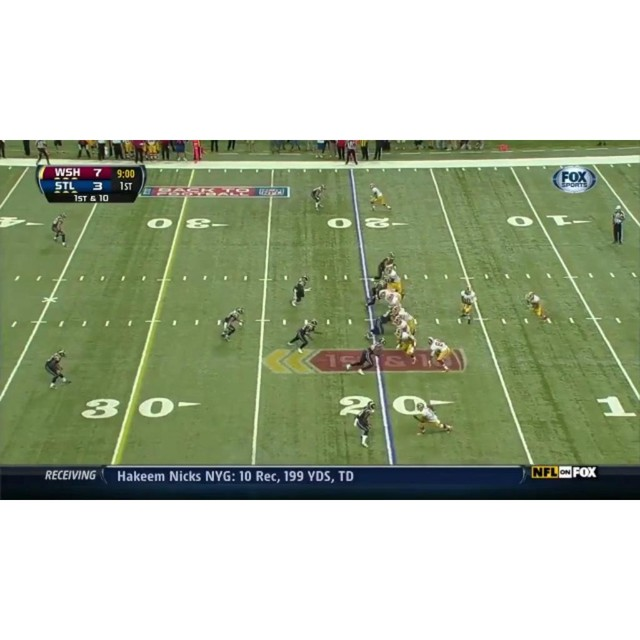american-football-player: (345, 338, 385, 375), (416, 403, 452, 435), (288, 318, 318, 354), (45, 349, 70, 389), (354, 401, 375, 448), (364, 310, 394, 342), (394, 324, 417, 365), (525, 291, 551, 325), (220, 306, 245, 341), (428, 337, 450, 372), (365, 276, 389, 308), (458, 287, 477, 324), (374, 253, 396, 284), (386, 265, 405, 299), (369, 183, 391, 211), (51, 212, 68, 247), (292, 274, 309, 307), (311, 184, 325, 212)
referee: (612, 204, 626, 245)
